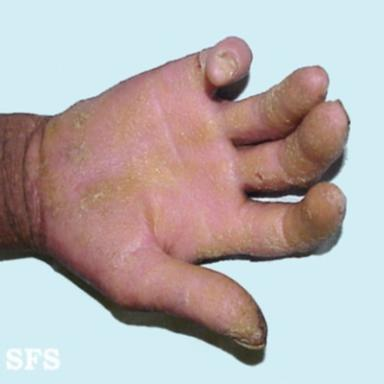Darier_s-Disease: (34, 54, 335, 290), (143, 184, 342, 346)
